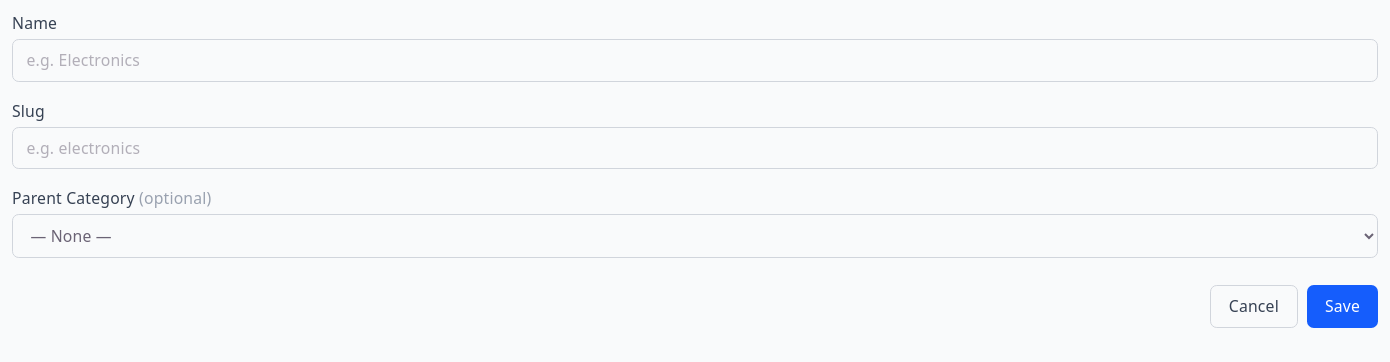
CategoryForm › shows "Slug is required" when slug is cleared and submitted
In the field labelled "Name": (695,60) 12,39 -> 1378,82, type "Books"
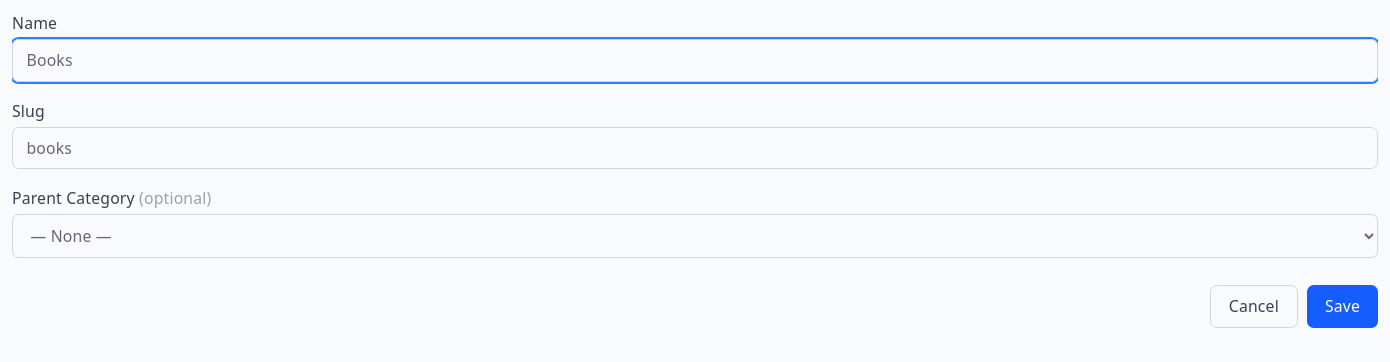
Clear the field labelled "Slug": (695,148) 12,126 -> 1378,169
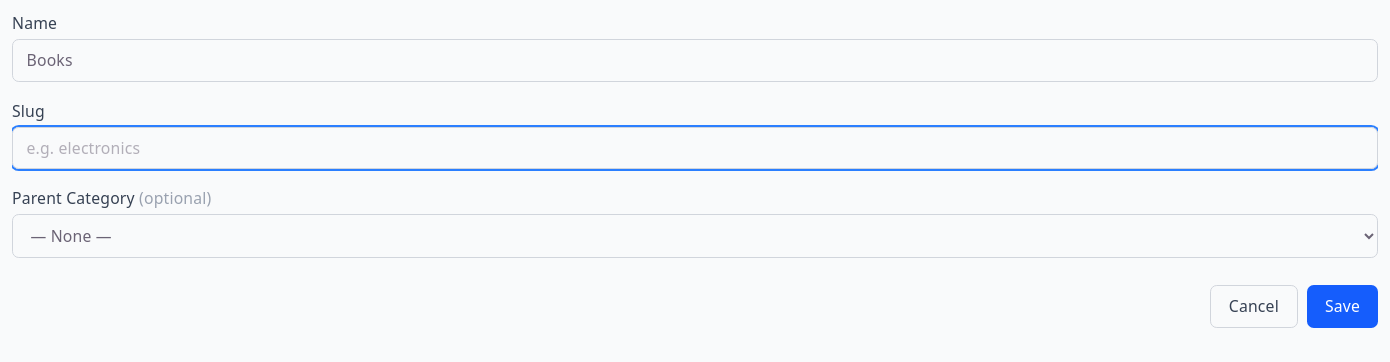
Click the button "Save": (1342,306) 1307,285 -> 1378,328
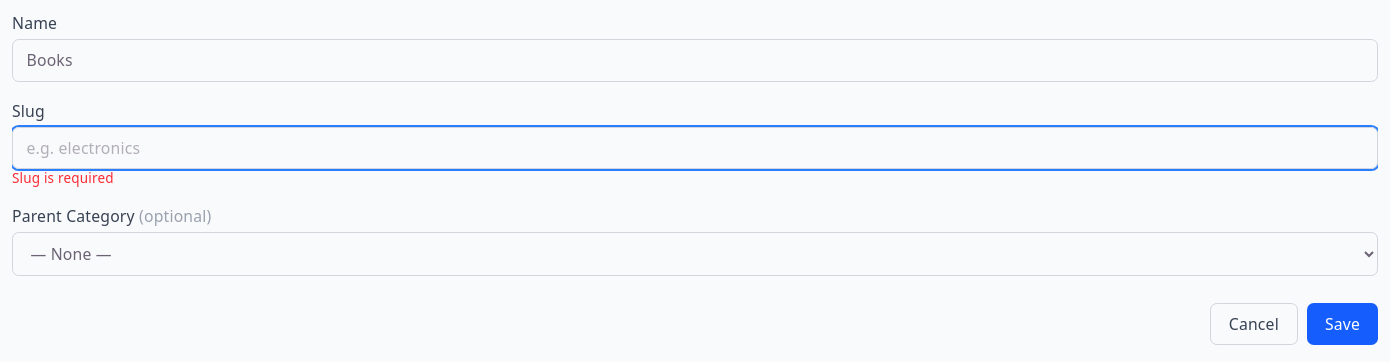
Expected: the text "Slug is required" is shown, 12,169 -> 114,187
